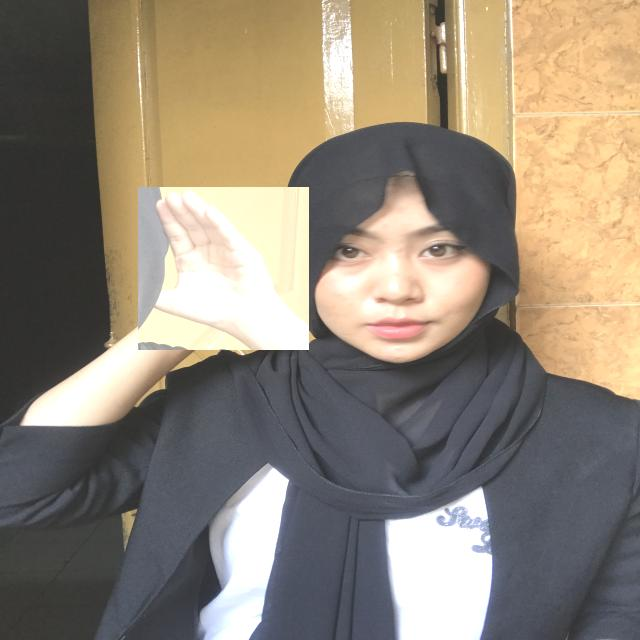mendengar: (138, 187, 309, 350)
